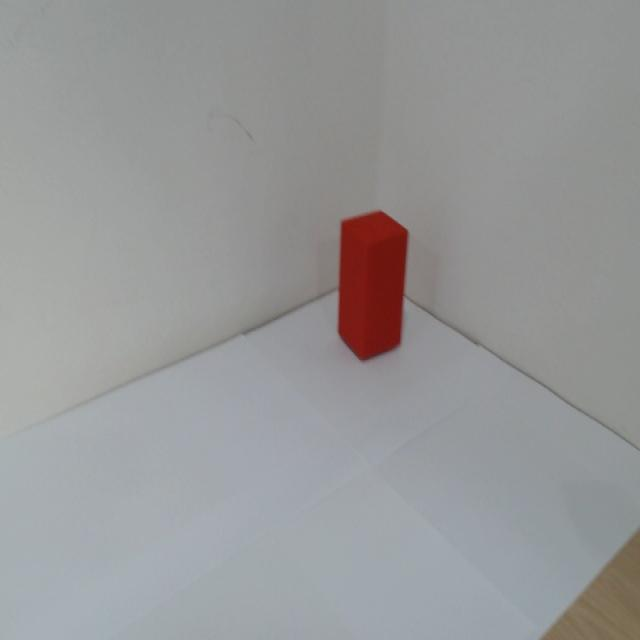cube: (334, 206, 411, 366)
